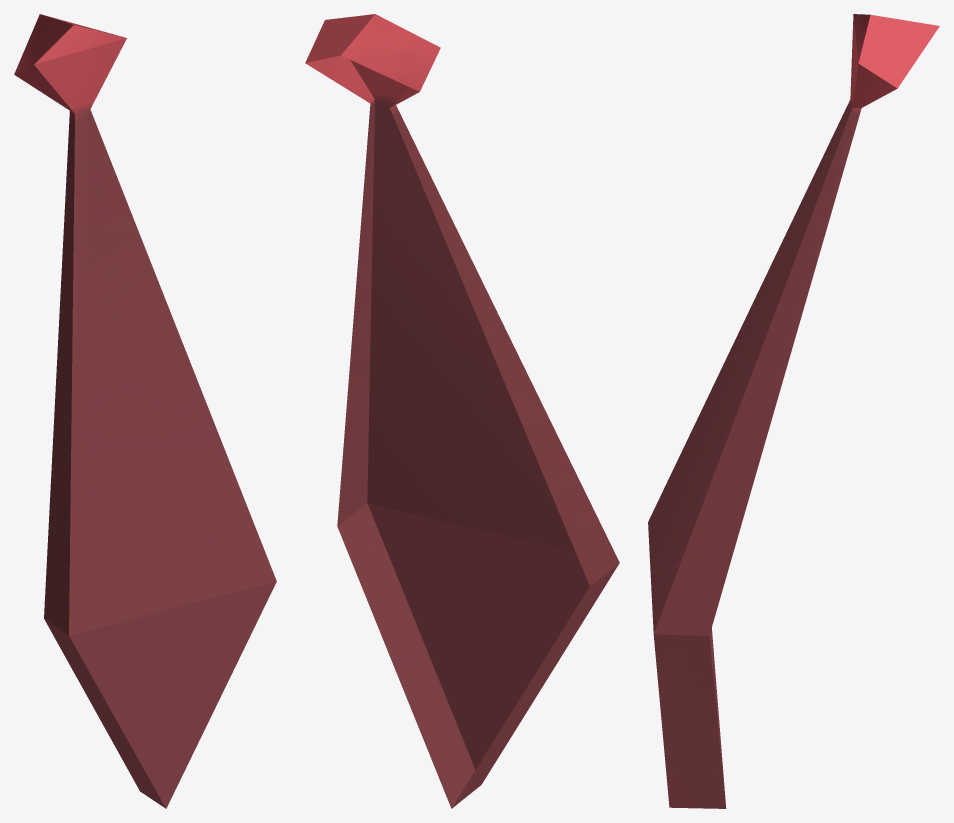
File: Tie.FBX
The picture shows the model from 3 angles, left to right: view 1: azimuth 30°, elevation 25°; view 2: azimuth 150°, elevation 25°; view 3: azimuth 270°, elevation 25°; orthographic projection. The views are drawn at different scales.
Parts seen in each view (by area): view 1: Tie; view 2: Tie; view 3: Tie.
Part boxes in pixels (x1,y1,x2,y2): Tie: (14,14,276,808); Tie: (305,14,619,808); Tie: (648,14,939,808).
Bounding box in the file's own units: 71.31 × 77.53 × 233.
1 material, 1 textured.
